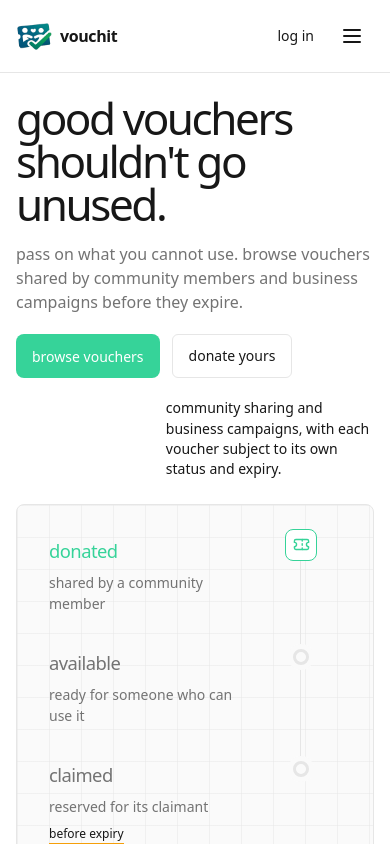
Test: Index › exposes mobile navigation semantics and closes on Escape or link activation
The image size is (390, 844).
Click the button named "open navigation". click: (352, 36)
box: [330,14,374,58]
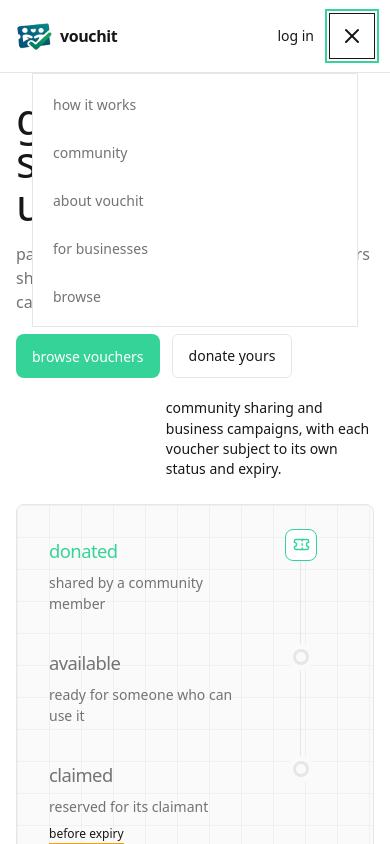
Result: the button named "close navigation" is expanded at [330,14,374,58]
Result: the navigation bar named "primary navigation" is shown at [32,73,358,327]
Press Escape
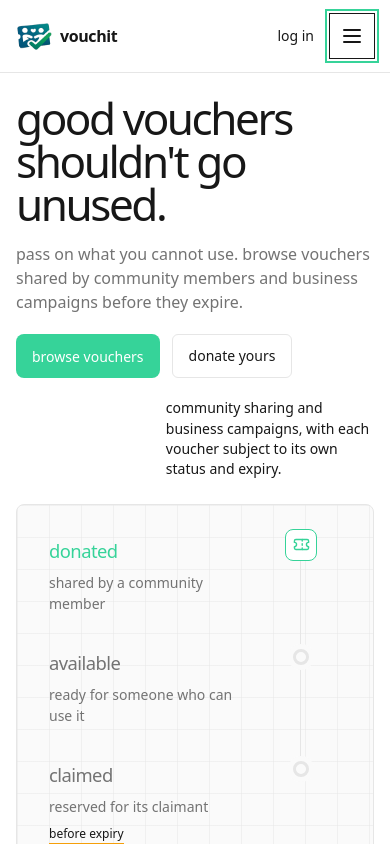
Result: the button named "open navigation" is collapsed
Click the button named "open navigation". click: (352, 36)
box: [330,14,374,58]
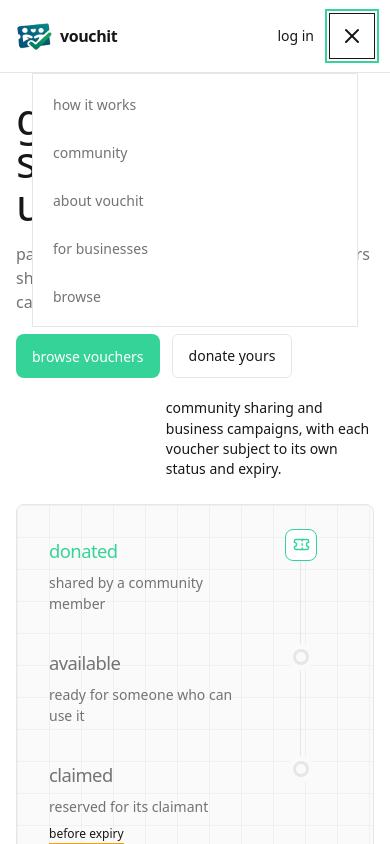
Click the link "browse". click: (77, 296)
box: [53,286,101,306]
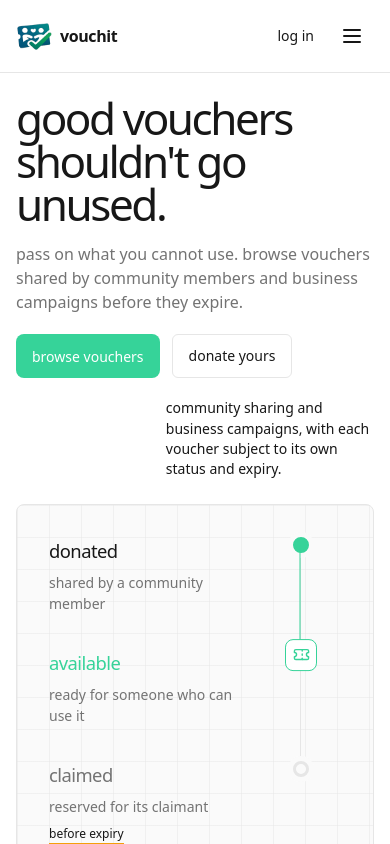
Result: the button named "open navigation" is collapsed at [330,14,374,58]
